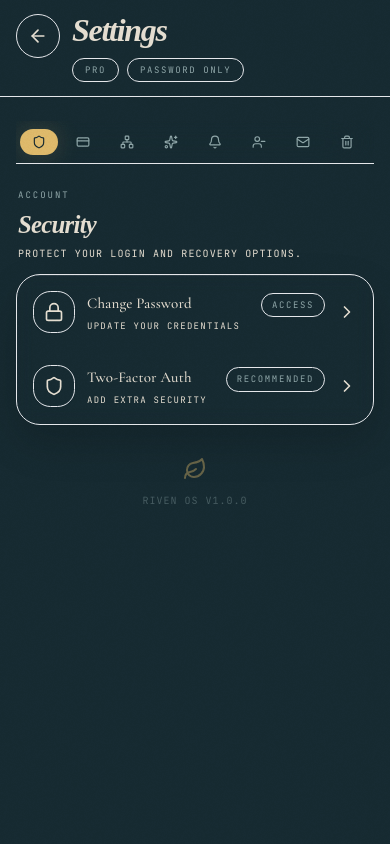
Settings LMS sync › renders the streamlined settings hierarchy for premium users
Expected: the heading "Security" is shown, [18,211,96,238]
Click the 2nd tab named "Plan & access" at (83, 142), box [64,129,102,155]
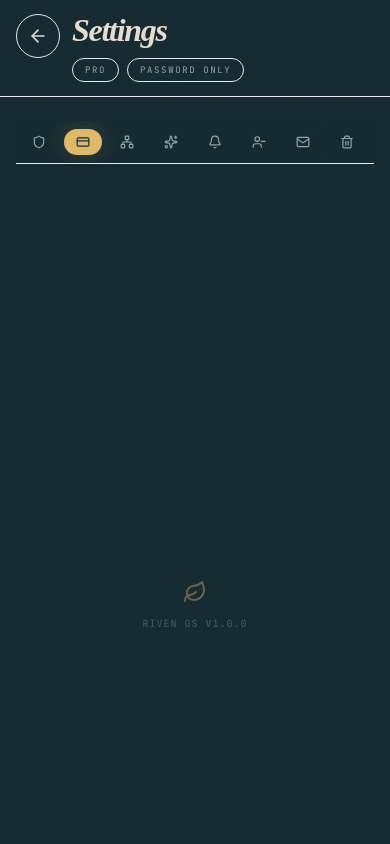
Click the 3rd tab named "Integrations" at (127, 142), box [108,129,146,155]
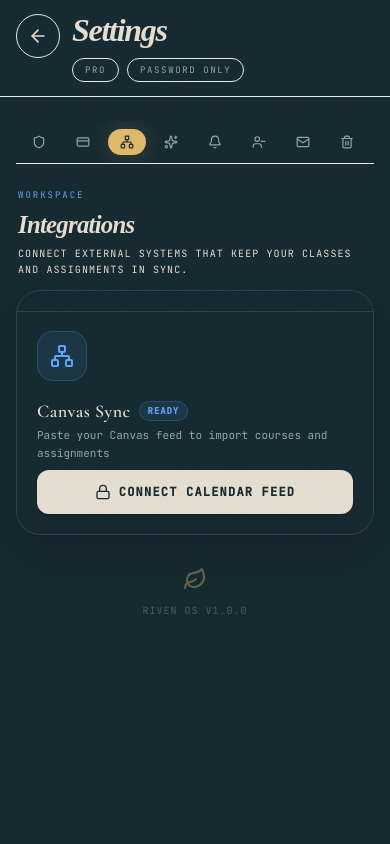
Expected: the heading "Integrations" is shown, [18,211,134,238]
Click the 4th tab named "Study Tools" at (171, 142), box [152,129,190,155]
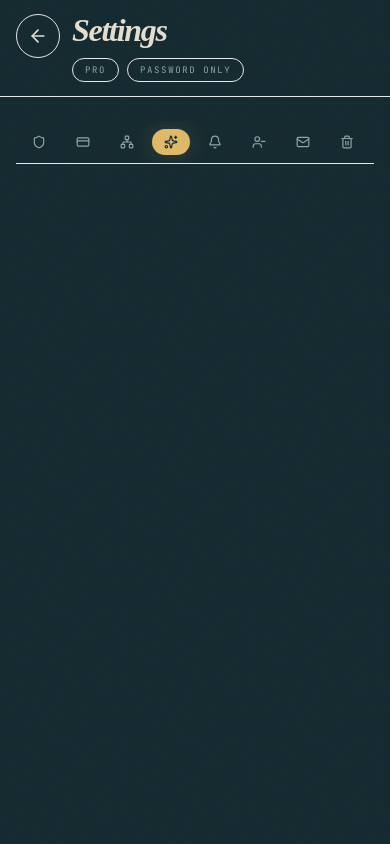
Click the 5th tab named "Notifications" at (215, 142), box [196,129,234,155]
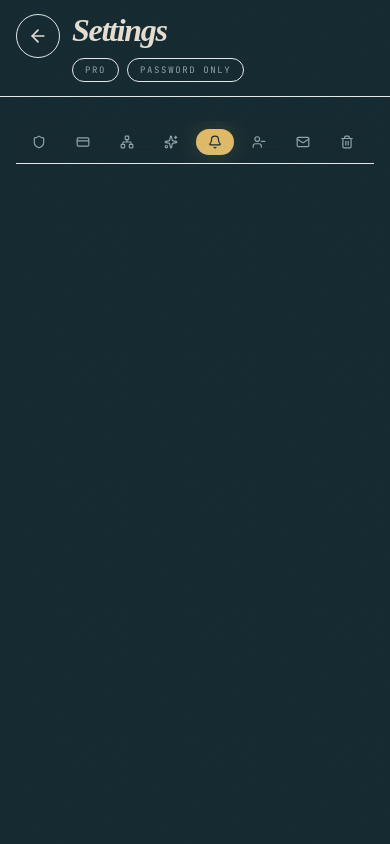
Click the 7th tab named "Help & policies" at (303, 142), box [284,129,322,155]
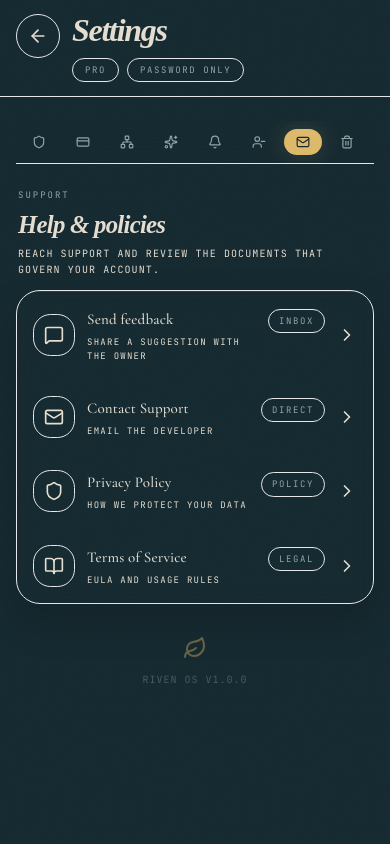
Expected: the heading "Help & policies" is shown, [18,211,165,238]
Expected: the button "Send feedback Share a suggestion with the owner Inbox" is shown, [17,291,373,380]
